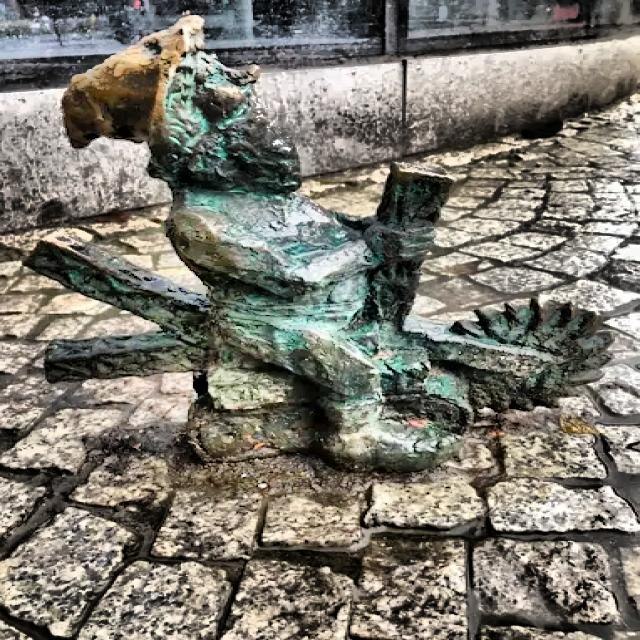Automatek: (28, 16, 611, 471)
